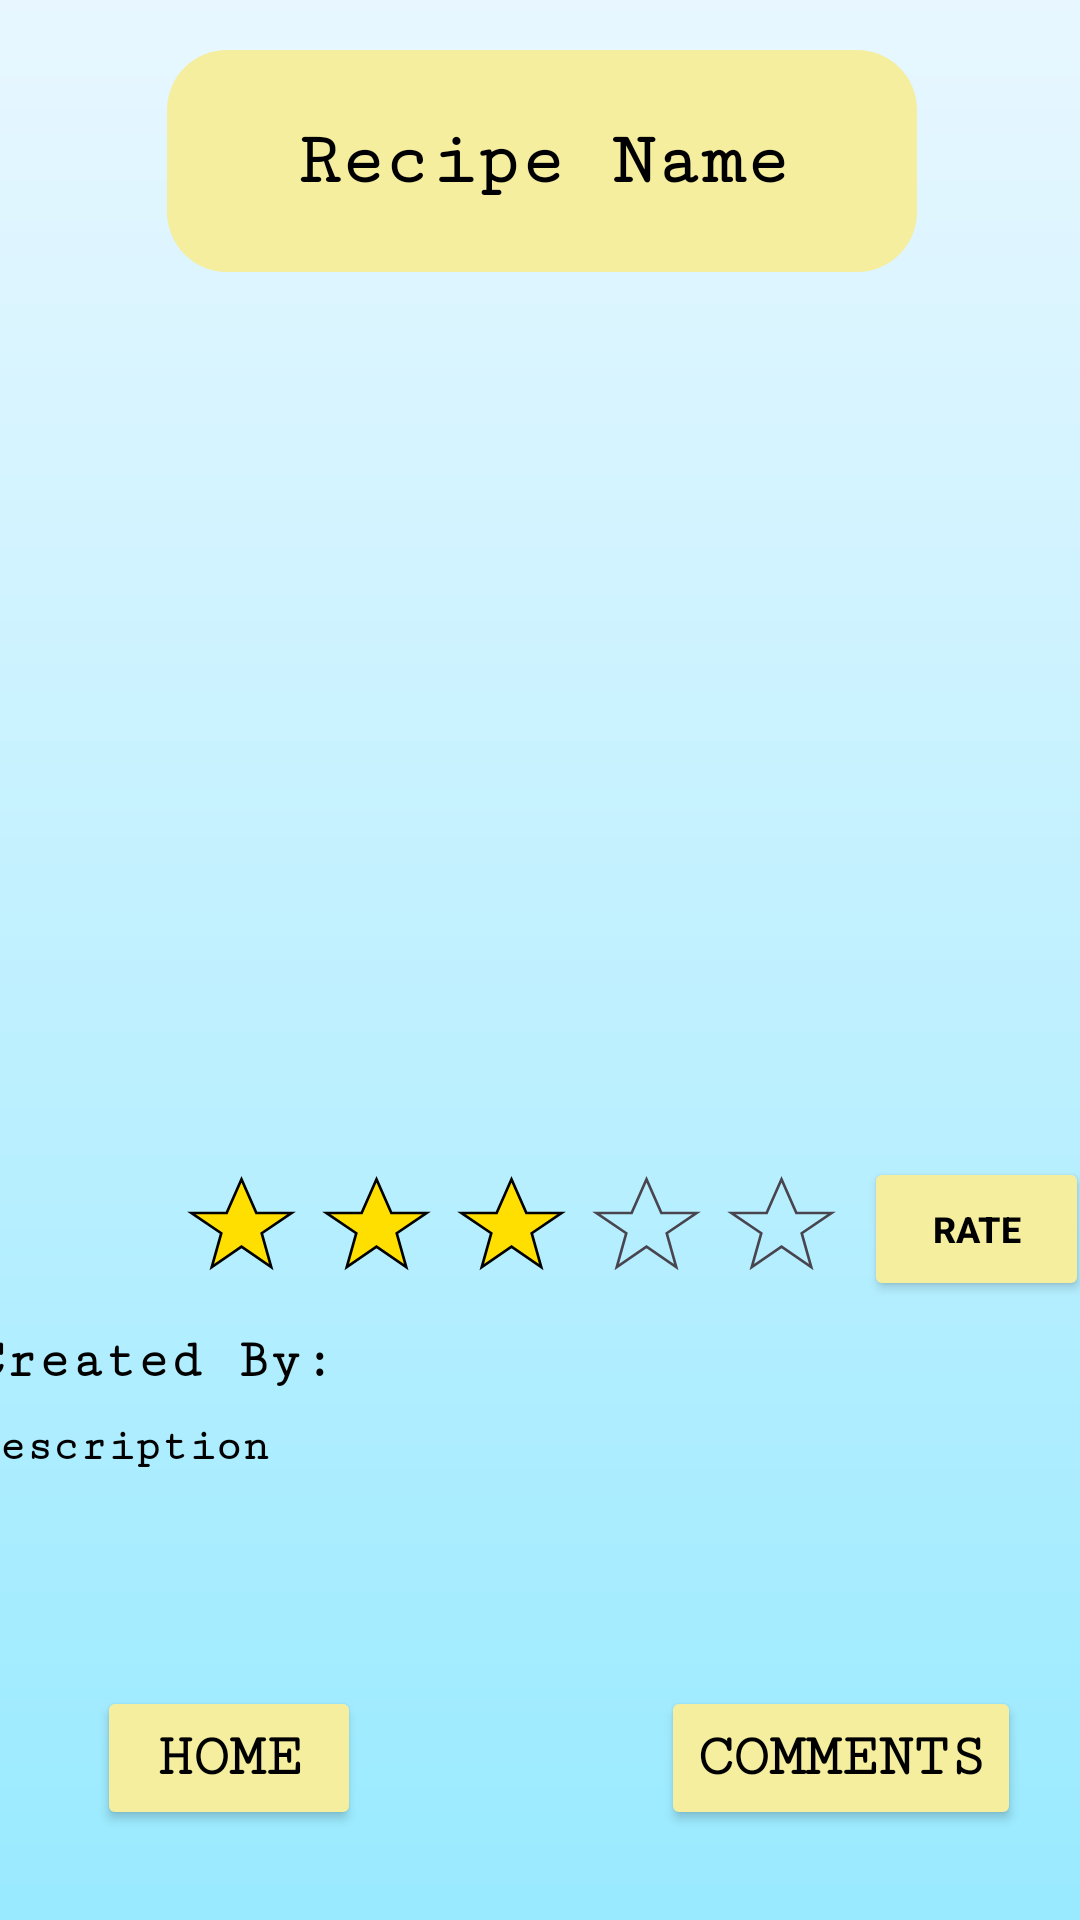

Point at icon controls on the screen. Image size 1080w x 1920h, points as (x,y).
star: (241,1223), (376,1223), (511,1223), (646,1223), (781,1223)
